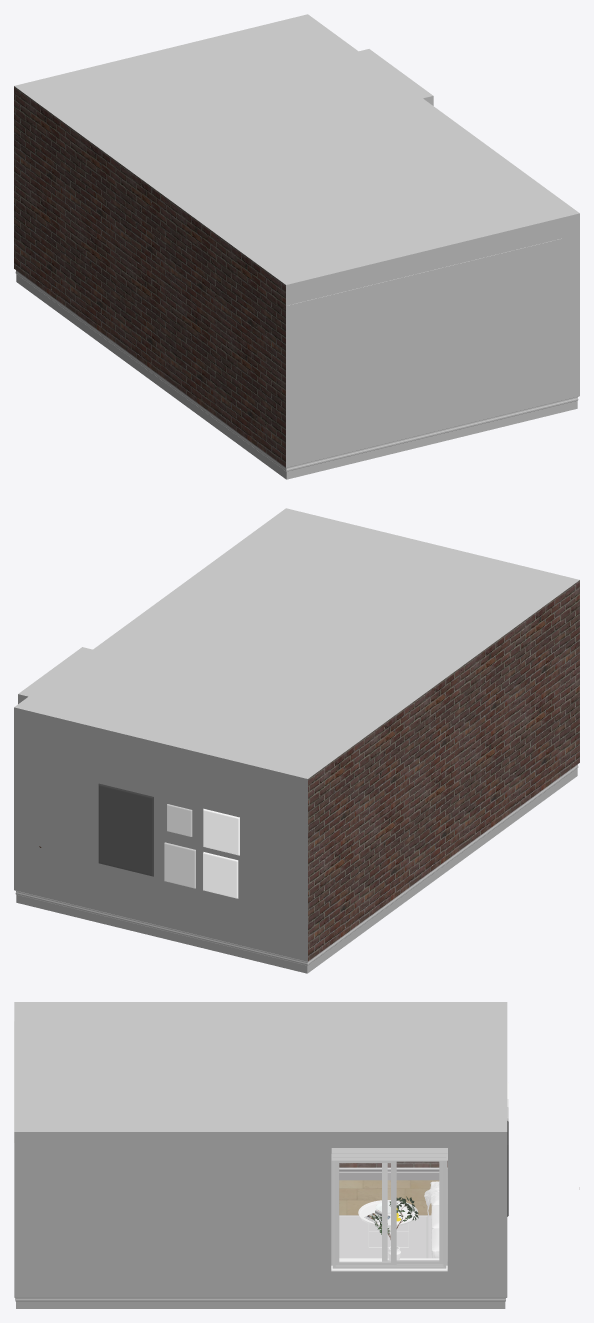
Rendered from interior-scene.glb.
3 views of the same model, one above another, from view 1: azimuth 30°, elevation 25°; view 2: azimuth 150°, elevation 25°; view 3: azimuth 270°, elevation 25° (orthographic). The views are drawn at different scales.
Size of the model in its own units: 65.92 by 38.29 by 111.
17 materials, 17 textured.
